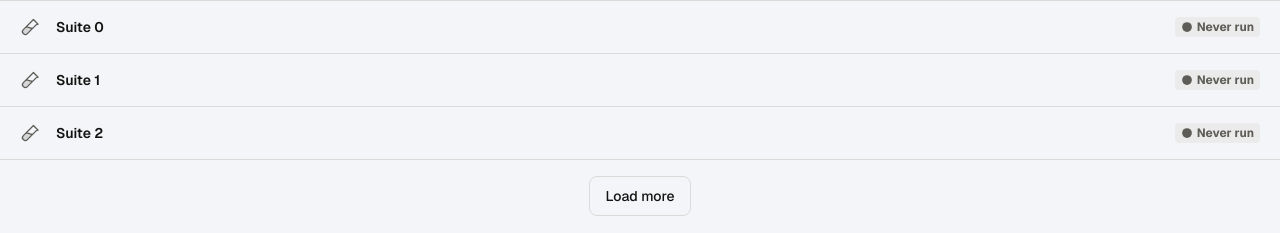
Test: SuiteListResults loading more › the load more button › is offered while the last page has a cursor, and only then
Click the button "Load more".
click(640, 196)  # box left=588, top=176, right=692, bottom=216
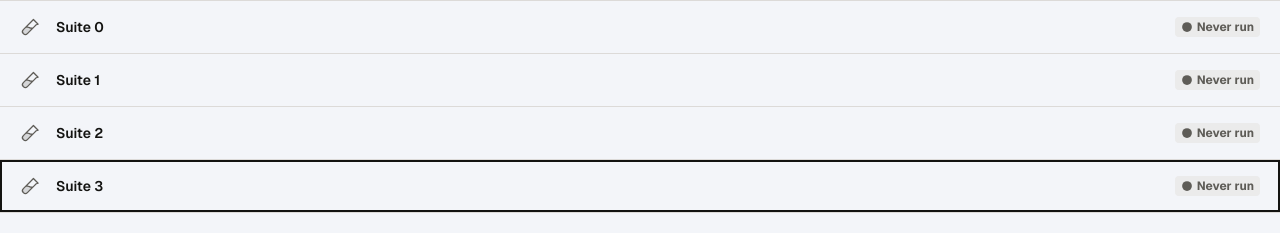
expect the element with test id "suite-row-s3" is shown: met, box left=20, top=174, right=1260, bottom=198
expect the button "Load more" is gone: met
